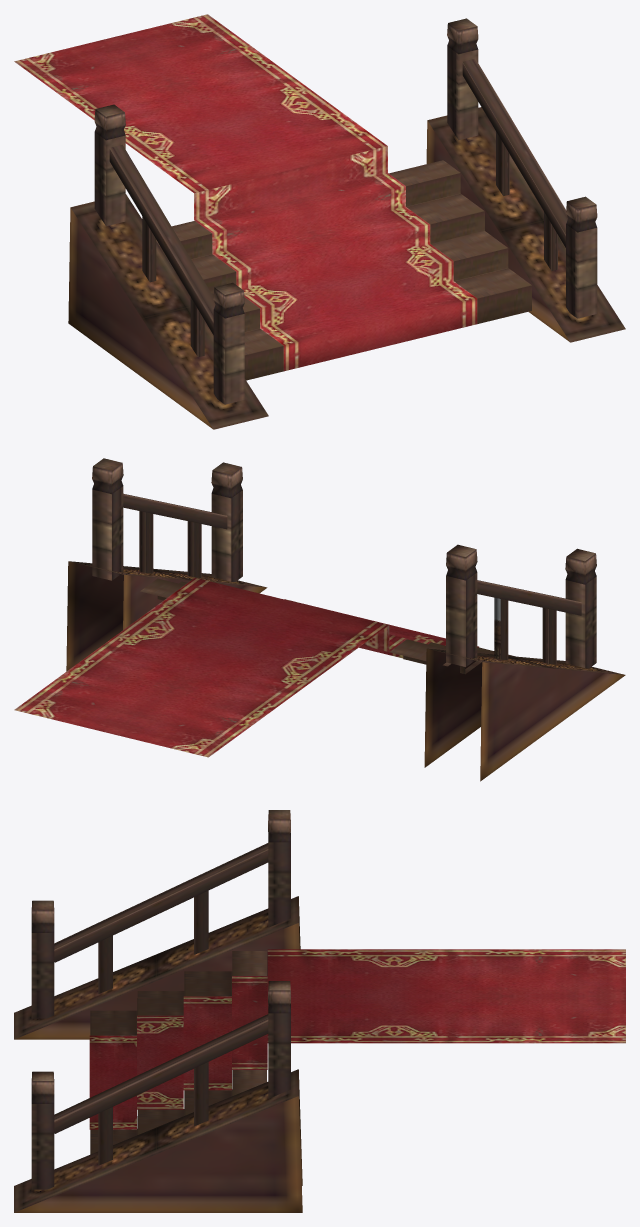
File: S2_Build_XSC089.FBX
3 views of the same model, one above another, from view 1: azimuth 30°, elevation 25°; view 2: azimuth 150°, elevation 25°; view 3: azimuth 270°, elevation 25° (orthographic).
Visible parts, largest first — view 1: S2_Build_XSC089; view 2: S2_Build_XSC089; view 3: S2_Build_XSC089.
Part boxes in pixels (x1,y1,x2,y2): S2_Build_XSC089: (14,14,625,429); S2_Build_XSC089: (14,458,625,781); S2_Build_XSC089: (14,810,625,1212).
Size of the model in its own units: 101 by 49.96 by 130.
